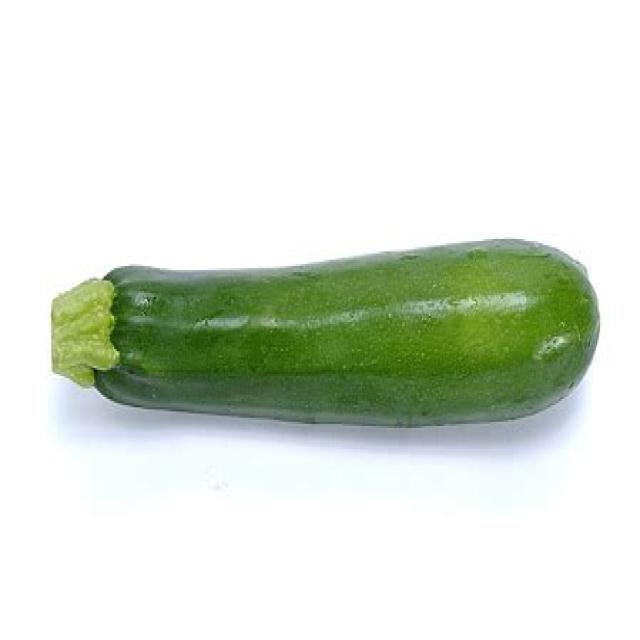Zucchini: (50, 242, 607, 424)
